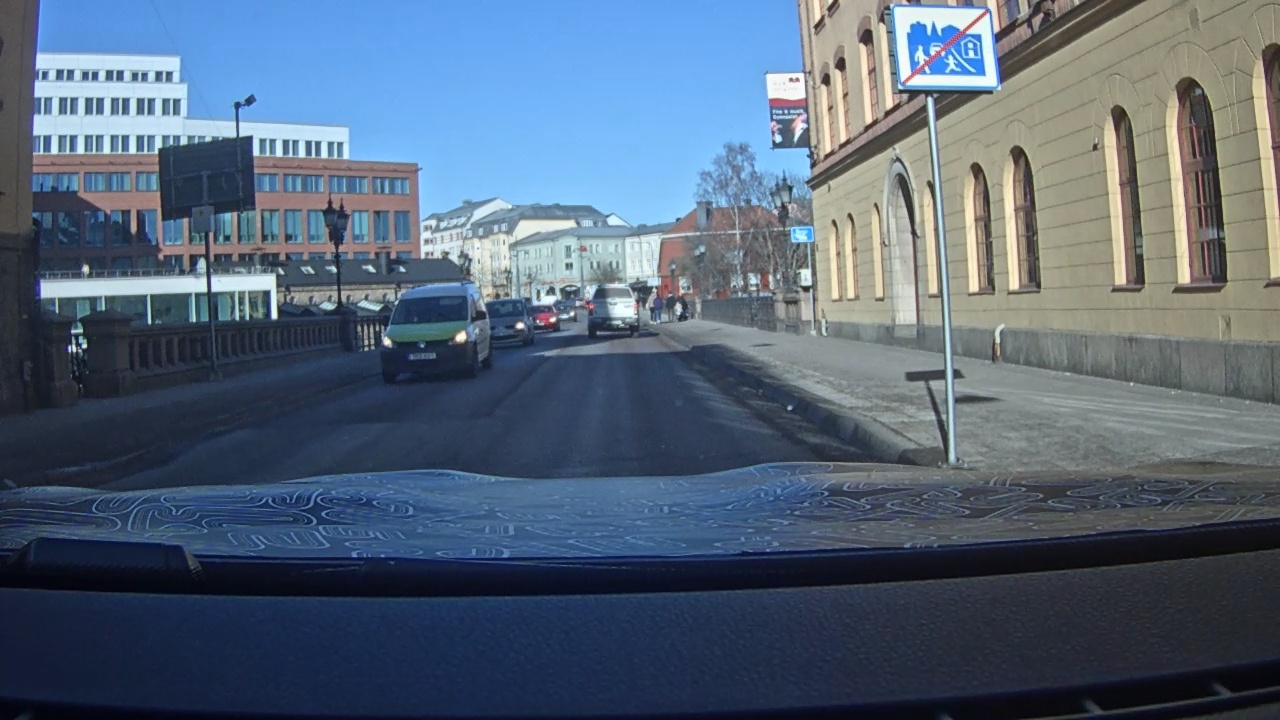End_Of_Playground_Residential_Area: (890, 5, 1000, 93)
